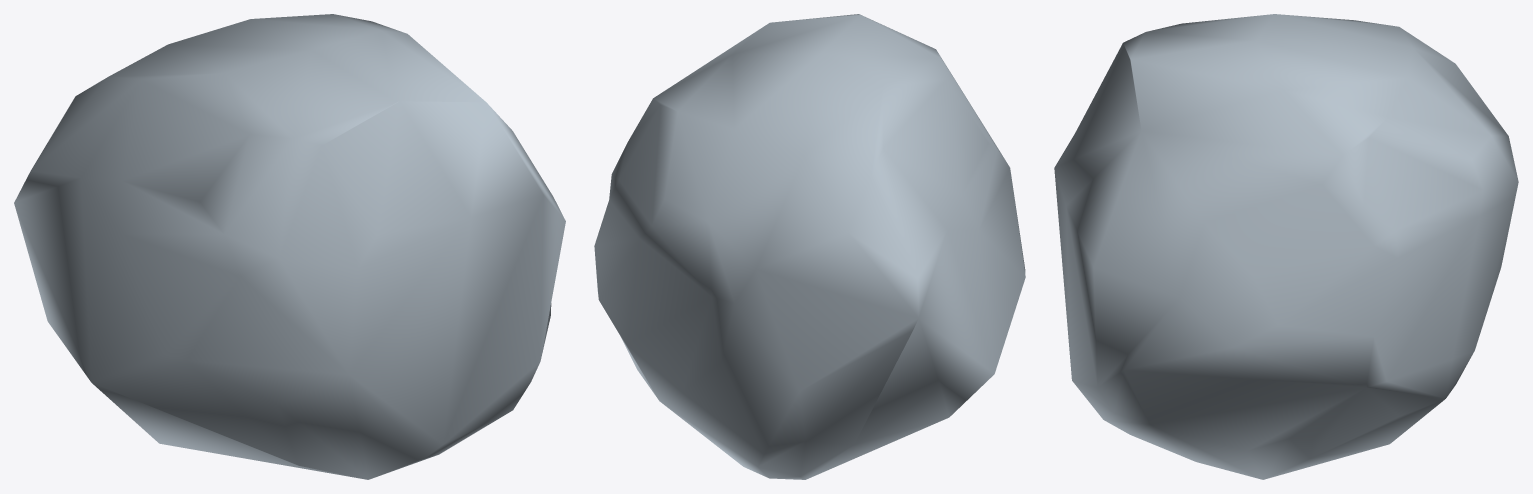
File: itch_assetquest_pond_rock_2b.glb
3 renders of one model, left to right at view 1: azimuth 30°, elevation 25°; view 2: azimuth 150°, elevation 25°; view 3: azimuth 270°, elevation 25°, orthographic. The views are drawn at different scales.
Parts seen in each view (by area): view 1: Rock_2b; view 2: Rock_2b; view 3: Rock_2b.
Part boxes in pixels (left/top/right/bottom): Rock_2b: left=14, top=14, right=565, bottom=479; Rock_2b: left=594, top=14, right=1025, bottom=479; Rock_2b: left=1054, top=14, right=1518, bottom=479.
Size of the model in its own units: 1.18 by 1.11 by 1.16.
